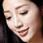without_mask: (1, 1, 43, 43)
